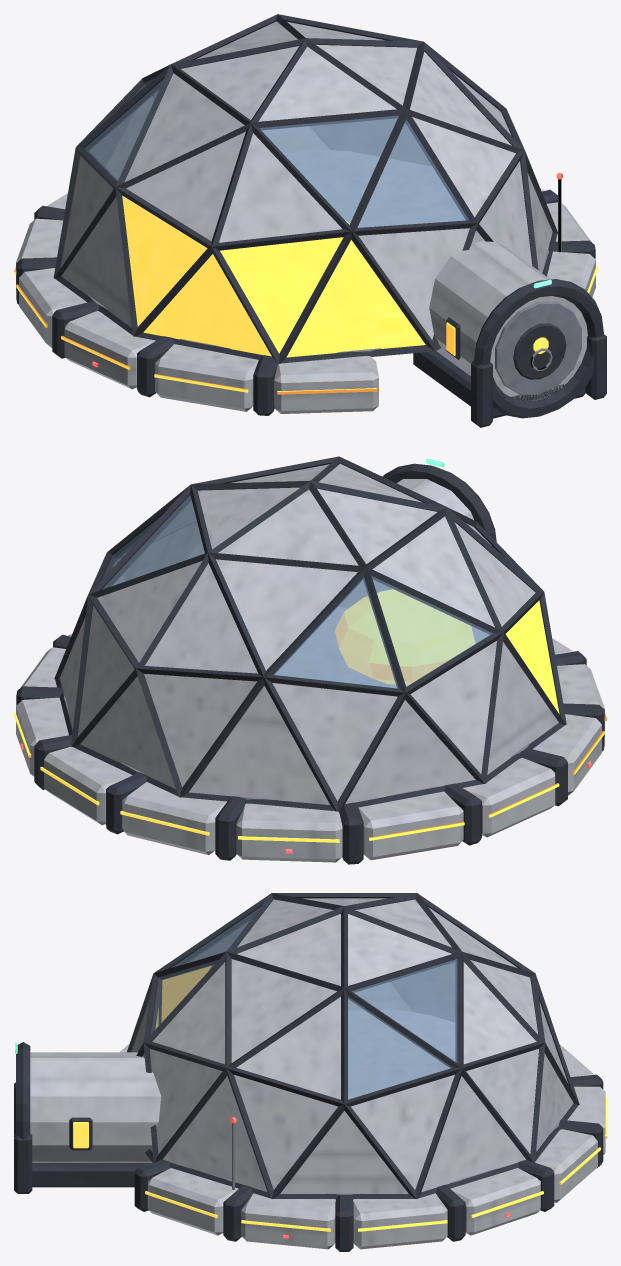
Rendered from dome.glb.
The picture shows the model from 3 angles, top to bottom: view 1: azimuth 30°, elevation 25°; view 2: azimuth 150°, elevation 25°; view 3: azimuth 270°, elevation 25°; orthographic projection. The views are drawn at different scales.
Visible parts, largest first — view 1: DomeHull, DomeFrame, DomeWarmPanes, DomeGlass, TunnelBody, DomeFloor, ArchFrame, RingSegment09, RingSegment08, TunnelMouth, RingSegment07, RingSegment06 (+11 smaller); view 2: DomeHull, DomeFrame, DomeGlass, LivingGlow, RingSegment04, RingSegment05, RingSegment03, RingSegment06, RingSegment02, DomeFloor, RingSegment07, DomeWarmPanes (+13 smaller); view 3: DomeHull, DomeFrame, DomeGlass, TunnelBody, DomeFloor, RingSegment00, RingSegment13, RingSegment12, RingSegment01, TunnelSkid, RingSegment02, ArchFrame (+9 smaller).
Part boxes in pixels (left/top/right/bottom): DomeHull: left=60, top=21, right=552, bottom=339; DomeFrame: left=53, top=14, right=557, bottom=364; DomeWarmPanes: left=122, top=195, right=425, bottom=357; DomeGlass: left=84, top=79, right=468, bottom=227; TunnelBody: left=429, top=239, right=587, bottom=401; DomeFloor: left=87, top=149, right=548, bottom=352; ArchFrame: left=474, top=279, right=603, bottom=418; RingSegment09: left=274, top=356, right=378, bottom=413; RingSegment08: left=155, top=344, right=258, bottom=411; TunnelMouth: left=495, top=301, right=581, bottom=394; RingSegment07: left=64, top=311, right=155, bottom=389; RingSegment06: left=19, top=268, right=86, bottom=347; DomeHull: left=60, top=463, right=558, bottom=804; DomeFrame: left=54, top=456, right=566, bottom=812; DomeGlass: left=102, top=495, right=492, bottom=688; LivingGlow: left=335, top=589, right=475, bottom=685; RingSegment04: left=236, top=803, right=342, bottom=862; RingSegment05: left=358, top=791, right=463, bottom=860; RingSegment03: left=122, top=782, right=226, bottom=855; RingSegment06: left=463, top=758, right=555, bottom=837; RingSegment02: left=44, top=746, right=132, bottom=824; DomeFloor: left=63, top=606, right=532, bottom=800; RingSegment07: left=533, top=714, right=601, bottom=795; DomeWarmPanes: left=505, top=600, right=559, bottom=714; DomeHull: left=131, top=898, right=573, bottom=1193; DomeFrame: left=127, top=893, right=579, bottom=1199; DomeGlass: left=151, top=908, right=456, bottom=1099; TunnelBody: left=30, top=1052, right=161, bottom=1162; DomeFloor: left=191, top=1010, right=559, bottom=1194; RingSegment00: left=353, top=1193, right=447, bottom=1249; RingSegment13: left=241, top=1193, right=335, bottom=1249; RingSegment12: left=148, top=1168, right=238, bottom=1235; RingSegment01: left=450, top=1168, right=540, bottom=1235; TunnelSkid: left=32, top=1163, right=152, bottom=1187; RingSegment02: left=535, top=1129, right=597, bottom=1202; ArchFrame: left=16, top=1042, right=30, bottom=1139.
Bounding box in the file's own units: 11.52 × 5.74 × 12.83.
9 materials, 9 textured.
